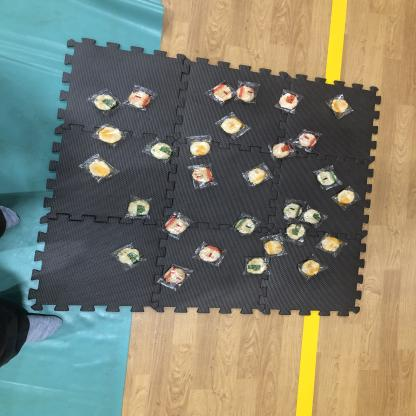green_setoshio: (88, 89, 123, 118), (145, 137, 179, 165), (114, 242, 147, 270), (238, 255, 273, 280), (311, 166, 345, 190), (127, 195, 156, 222), (233, 214, 262, 237), (281, 221, 310, 244), (302, 206, 330, 228), (280, 200, 306, 221)
red_setoshio: (186, 162, 220, 191), (124, 84, 157, 112), (157, 265, 192, 290), (162, 212, 192, 241), (194, 241, 227, 266), (208, 78, 236, 105), (277, 90, 305, 115), (237, 80, 262, 106), (268, 139, 295, 163), (296, 128, 323, 151)
yellow_setoshio: (75, 152, 120, 186), (239, 160, 274, 188), (93, 124, 129, 150), (218, 112, 252, 138), (184, 134, 218, 160), (316, 232, 348, 256), (295, 257, 327, 281), (326, 94, 356, 118), (258, 233, 287, 257), (332, 186, 362, 208)
